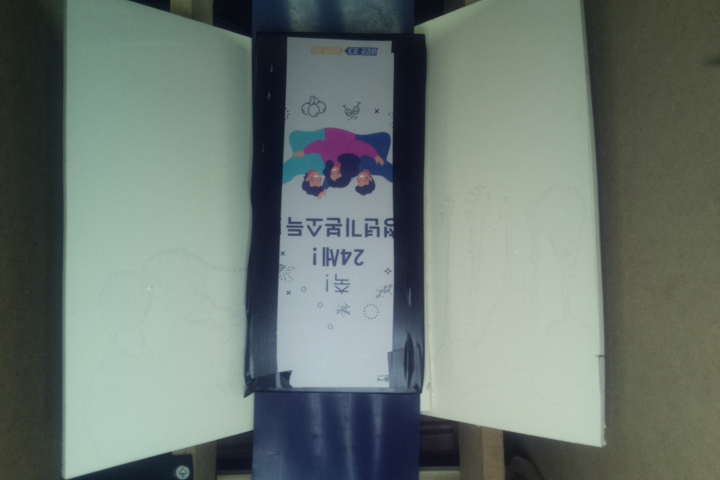book: (245, 34, 429, 396)
